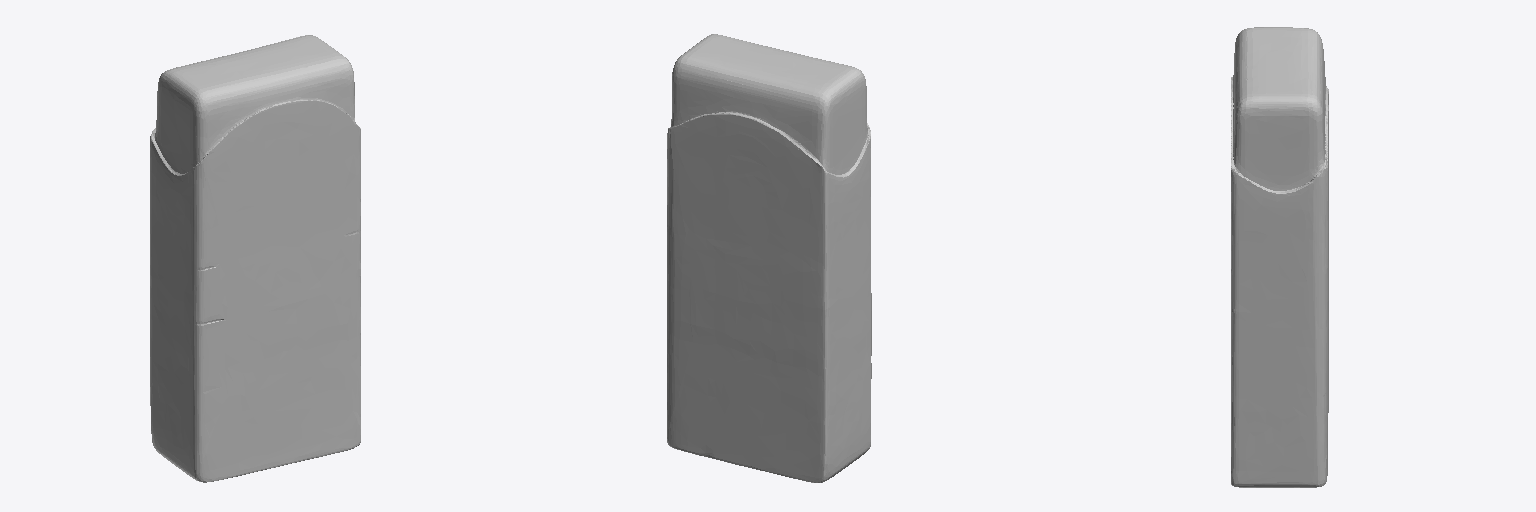
File: eraser_visual.obj
3 views of the same model, side by side, from view 1: azimuth 30°, elevation 25°; view 2: azimuth 150°, elevation 25°; view 3: azimuth 270°, elevation 25° (orthographic).
Size of the model in its own units: 0.0449 by 0.1 by 0.0231.